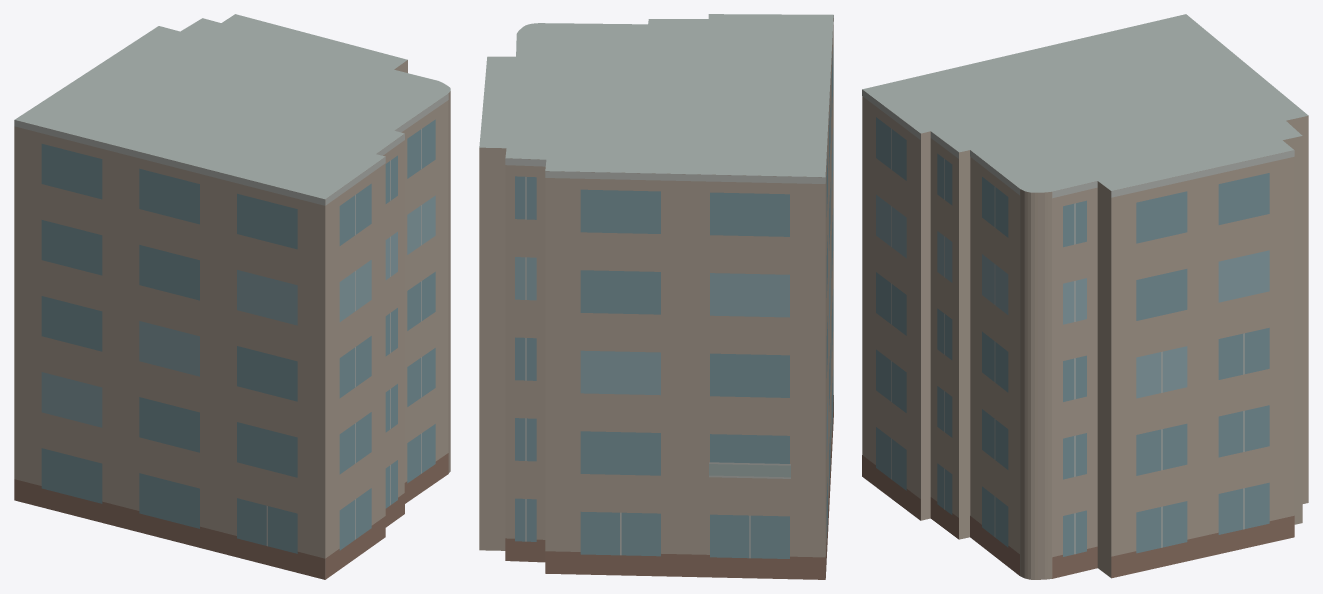
The model's file is survey-upis-32920572.glb.
3 renders of one model, left to right at view 1: azimuth 30°, elevation 25°; view 2: azimuth 150°, elevation 25°; view 3: azimuth 270°, elevation 25°, orthographic. The views are drawn at different scales.
Parts seen in each view (by area): view 1: survey-upis-32920572.tmp; view 2: survey-upis-32920572.tmp; view 3: survey-upis-32920572.tmp.
Part boxes in pixels (<box>): survey-upis-32920572.tmp: <box>14,14,450,579</box>; survey-upis-32920572.tmp: <box>479,14,833,579</box>; survey-upis-32920572.tmp: <box>862,14,1308,579</box>.
Size of the model in its own units: 14.06 by 14.2 by 14.85.
